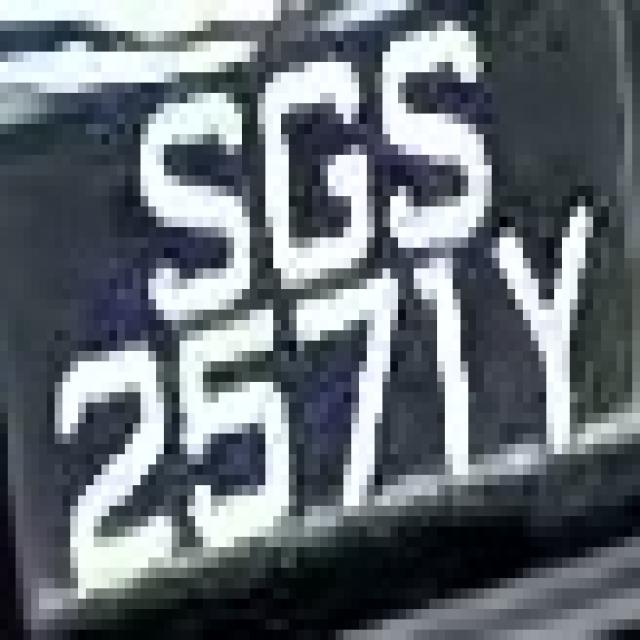1: (414, 207, 492, 547)
2: (16, 341, 180, 609)
5: (164, 320, 296, 588)
7: (258, 279, 422, 526)
G: (242, 52, 390, 310)
S: (351, 10, 492, 258), (117, 62, 250, 310)
Y: (476, 186, 601, 475)
